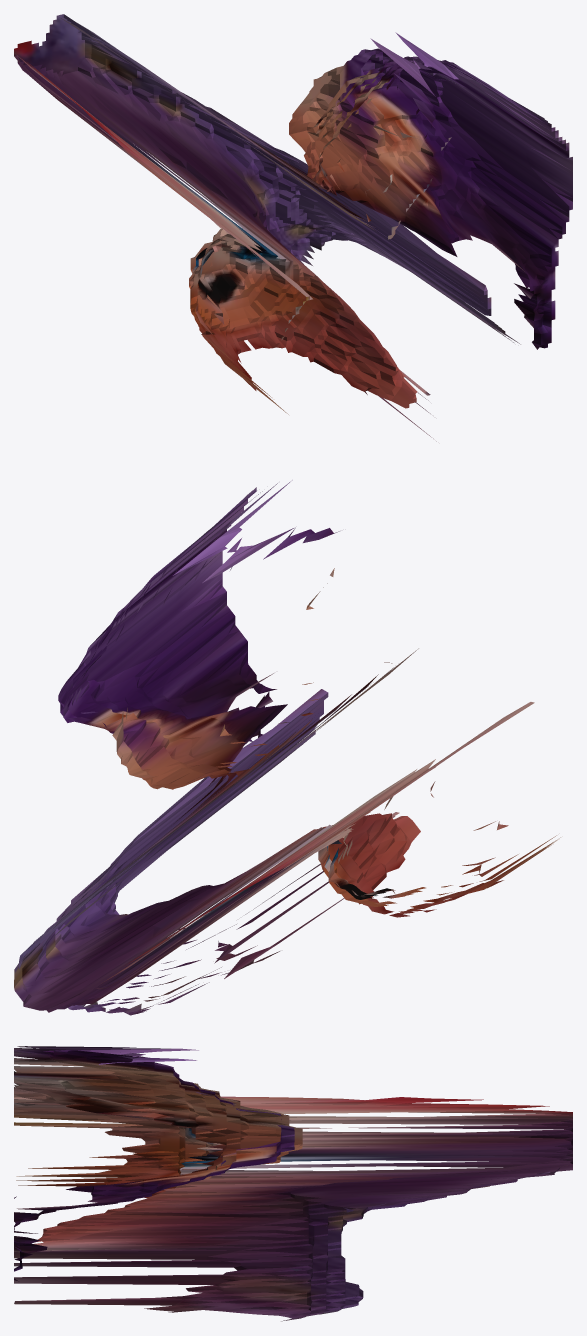
The model's file is frame_00004.glb.
3 views of the same model, one above another, from view 1: azimuth 30°, elevation 25°; view 2: azimuth 150°, elevation 25°; view 3: azimuth 270°, elevation 25° (orthographic). The views are drawn at different scales.
Visible parts, largest first — view 1: geometry_0; view 2: geometry_0; view 3: geometry_0.
Part boxes in pixels (left/top/right/bottom): geometry_0: left=14, top=14, right=572, bottom=441; geometry_0: left=14, top=480, right=560, bottom=1015; geometry_0: left=14, top=1046, right=572, bottom=1321.
Size of the model in its own units: 0.0822 by 0.0863 by 0.16.
1 material, 1 textured.
